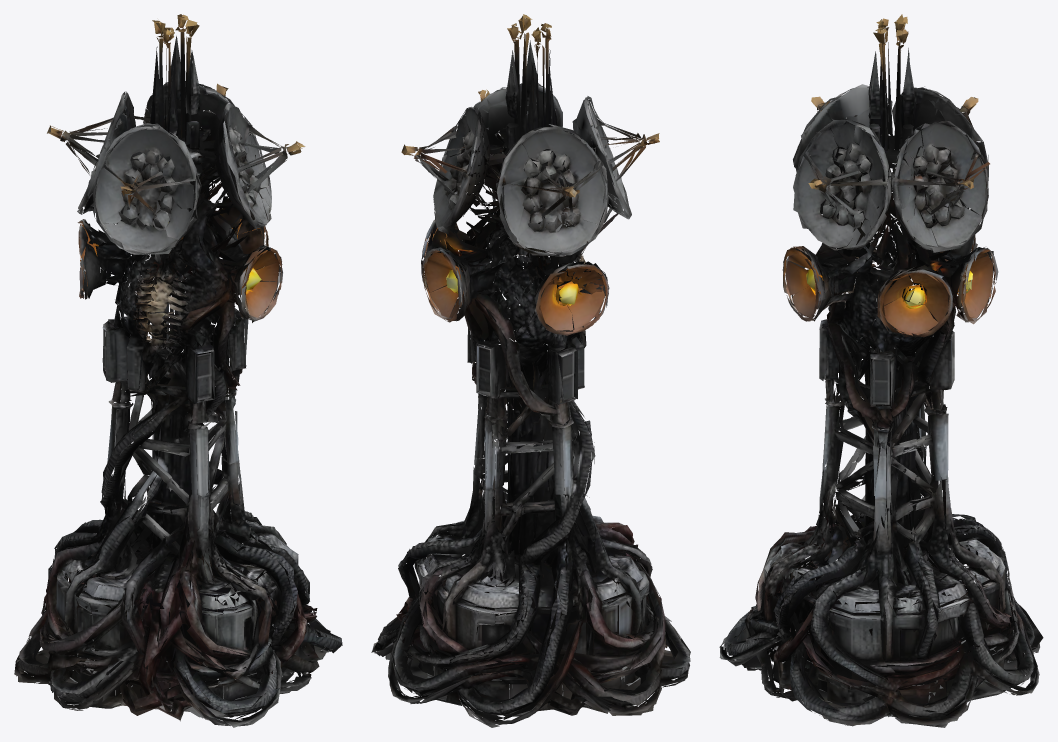
File: relay_false_beacon_spire.glb
3 renders of one model, left to right at view 1: azimuth 30°, elevation 25°; view 2: azimuth 150°, elevation 25°; view 3: azimuth 270°, elevation 25°, orthographic.
Visible parts, largest first — view 1: node_0; view 2: node_0; view 3: node_0.
Part boxes in pixels (bbox=[...]): node_0: bbox=[14, 14, 342, 727]; node_0: bbox=[371, 14, 690, 727]; node_0: bbox=[719, 14, 1043, 727].
Bounding box in the file's own units: 0.4864 × 1.09 × 0.4972.
1 material, 1 textured.
